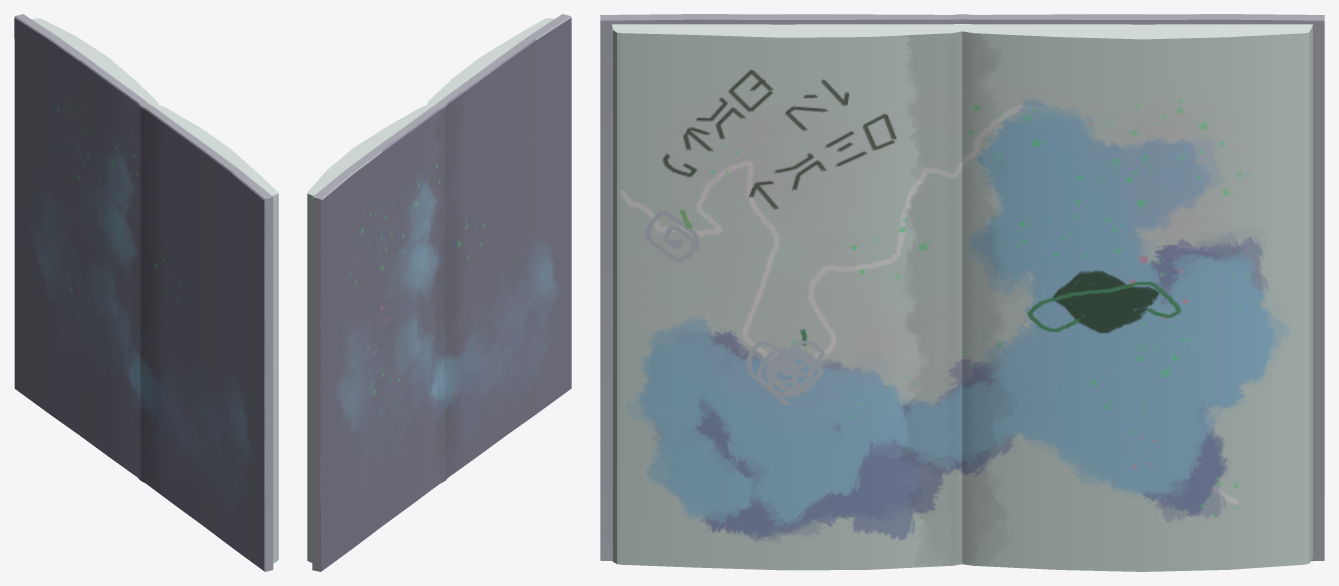
Rendered from Open Book.fbx.
3 views of the same model, side by side, from view 1: azimuth 30°, elevation 25°; view 2: azimuth 150°, elevation 25°; view 3: azimuth 270°, elevation 25° (orthographic). The views are drawn at different scales.
Parts seen in each view (by area): view 1: OpenBook; view 2: OpenBook; view 3: OpenBook.
Boxes of the visible parts, box(x1,y1,x2,y2) form: OpenBook: box(14, 14, 278, 571); OpenBook: box(307, 14, 571, 571); OpenBook: box(600, 14, 1324, 571).
Bounding box in the file's own units: 2.44 × 28.12 × 33.93.
